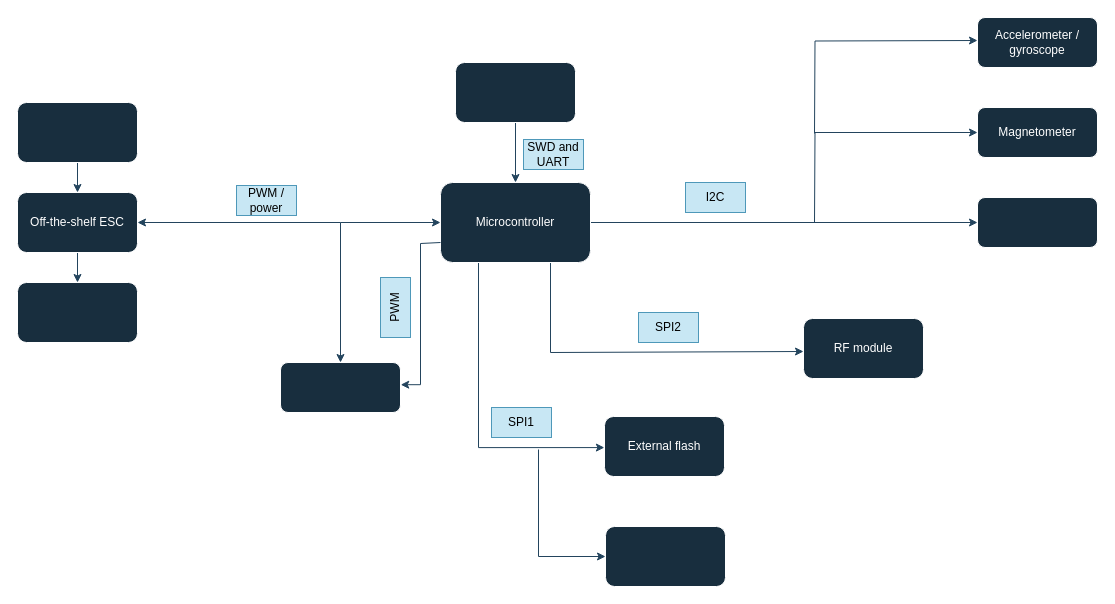
Some shapes in this 1115 by 604 pixel diagram are drawn without their labels. Each missing label, with the centre of its shape:
"5x Servo-motors" belongs at (340,387).
"Barometer / thermometer" belongs at (1037,222).
"Battery" belongs at (77,132).
"Debugger / programmer" belongs at (515,92).
"MicroSD" belongs at (665,556).
"Motor" belongs at (77,312).
